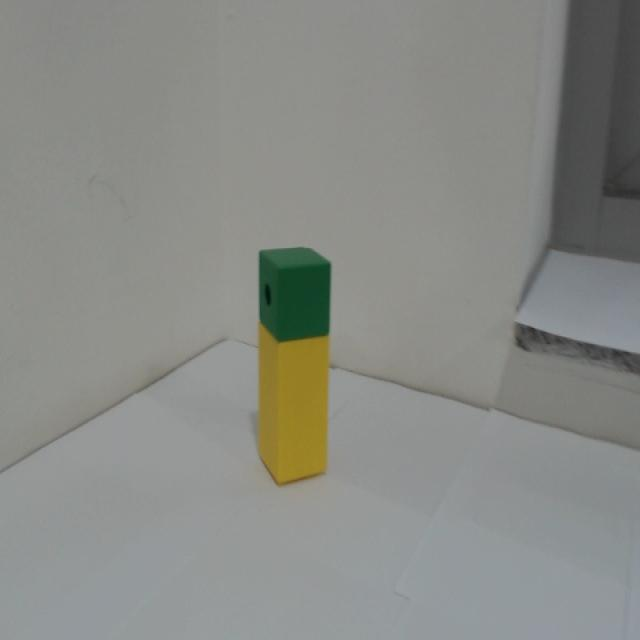cube: (252, 233, 344, 354)
